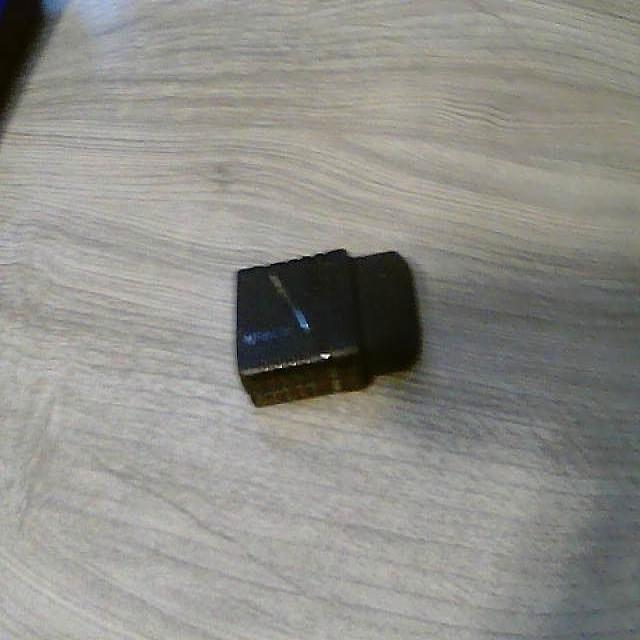borracha: (207, 226, 449, 418)
